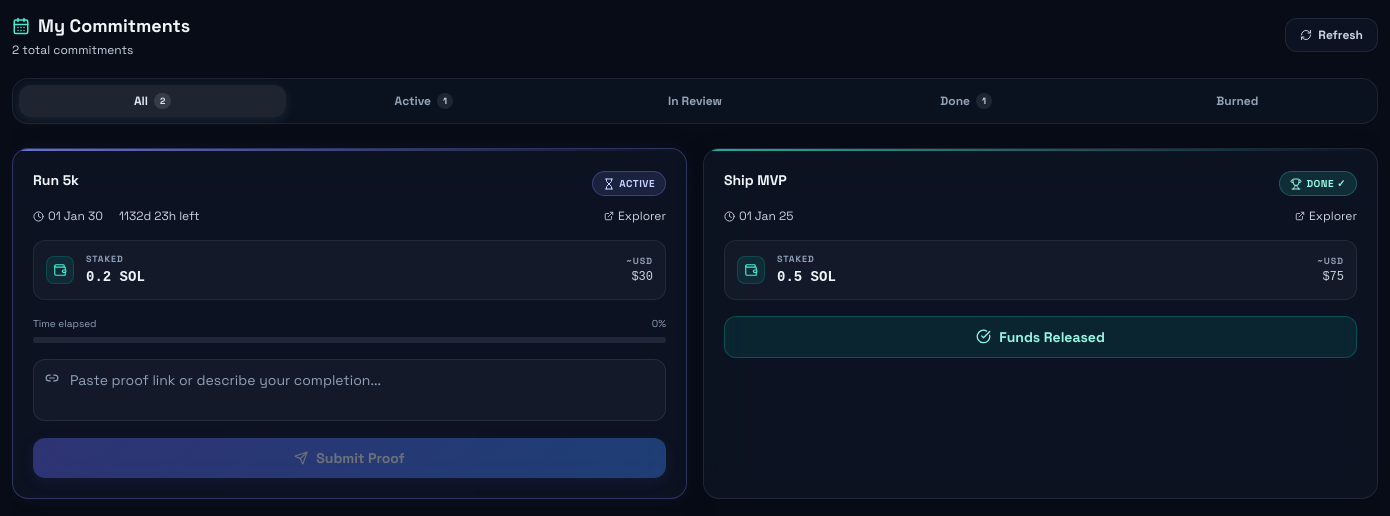
Test case: Accessibility semantics › renders ReminderList filter controls with proper tablist/tab/tabpanel semantics
Check: the element named "filter commitments by status" is shown, box [12,78,1378,124]
Check: the panel shows "Run 5k", box [33,171,79,189]
Click the tab "Done 1": (966, 101) [833,85,1100,117]
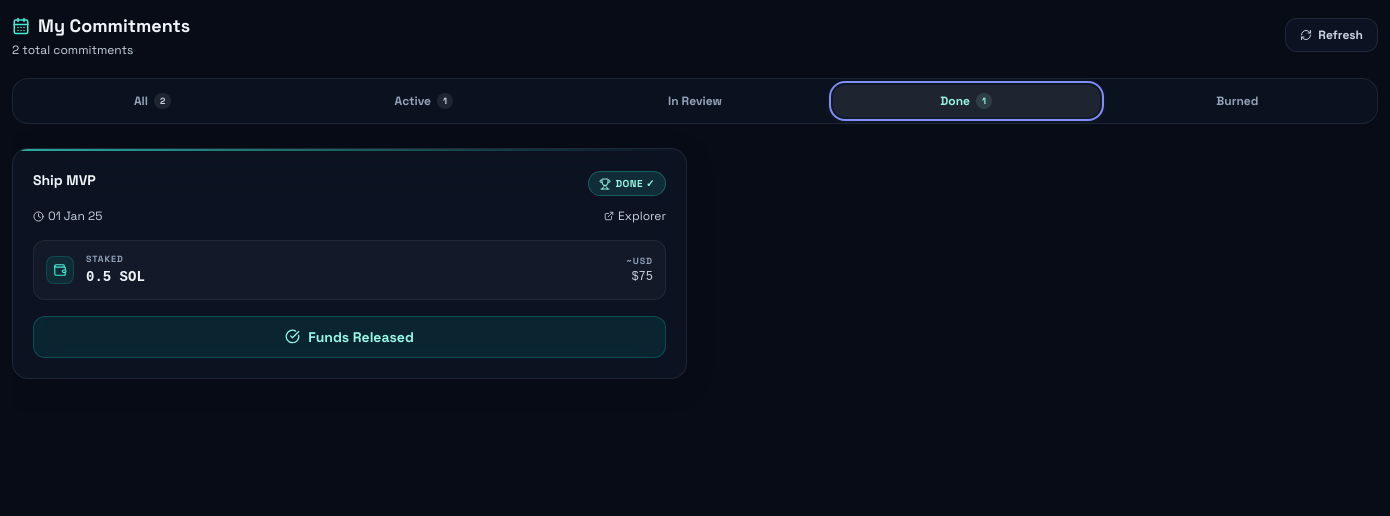
Check: the panel shows "Ship MVP", box [33,171,96,189]
Check: the panel no longer shows "Run 5k", box [12,148,687,378]
